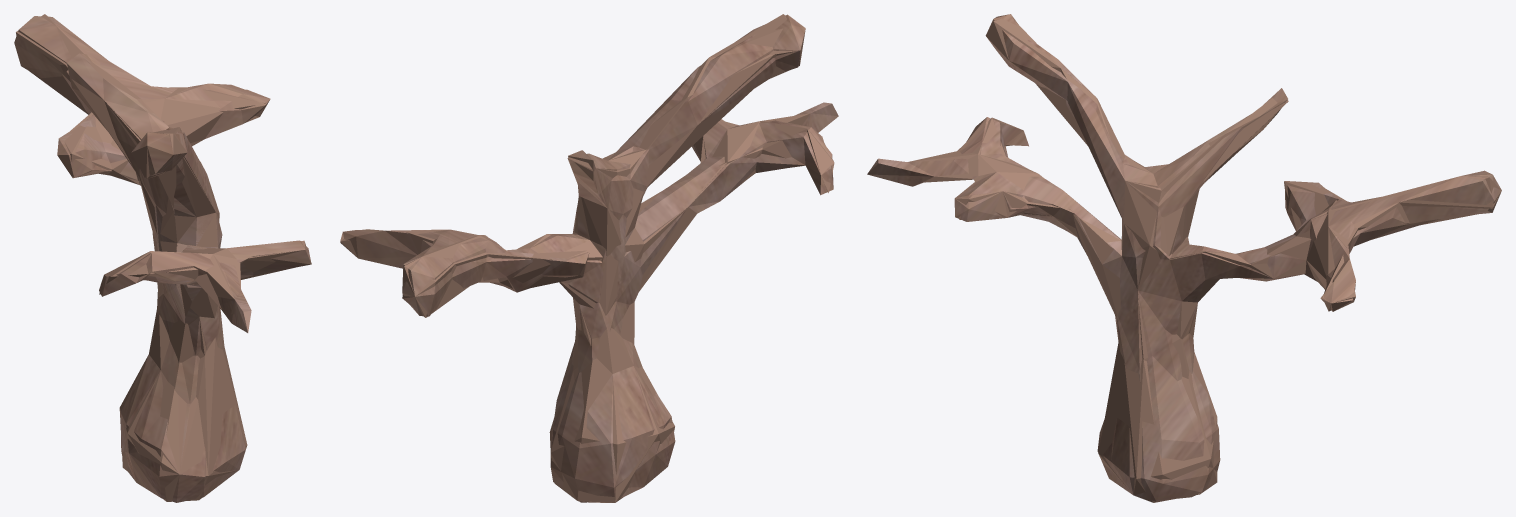
The model's file is TreeBare01.fbx.
The picture shows the model from 3 angles, left to right: view 1: azimuth 30°, elevation 25°; view 2: azimuth 150°, elevation 25°; view 3: azimuth 270°, elevation 25°; orthographic projection. The views are drawn at different scales.
Parts seen in each view (by area): view 1: TreeAndLeaves#2_M#2, TreeAndLeaves#2_M#3; view 2: TreeAndLeaves#2_M#2, TreeAndLeaves#2_M#3; view 3: TreeAndLeaves#2_M#2, TreeAndLeaves#2_M#3.
Boxes of the visible parts, <box> form: TreeAndLeaves#2_M#2: <box>14,16,311,502</box>; TreeAndLeaves#2_M#3: <box>16,14,311,501</box>; TreeAndLeaves#2_M#2: <box>340,14,838,502</box>; TreeAndLeaves#2_M#3: <box>340,14,834,502</box>; TreeAndLeaves#2_M#2: <box>867,14,1501,501</box>; TreeAndLeaves#2_M#3: <box>876,18,1500,502</box>.
Size of the model in its own units: 7.93 by 10 by 13.55.
1 material, 1 textured.
